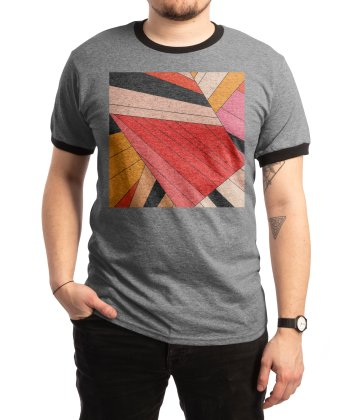design: (104, 67, 250, 211)
